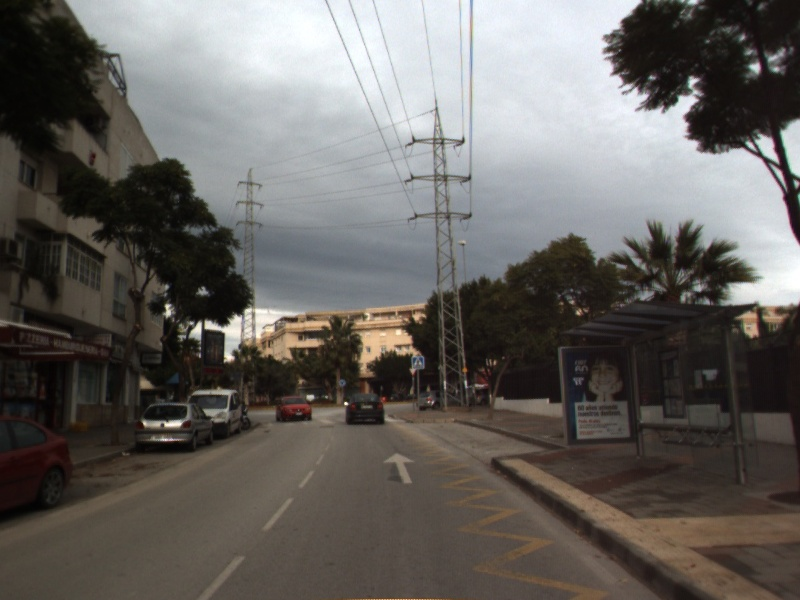STRAIGHT: (381, 450, 418, 485)
